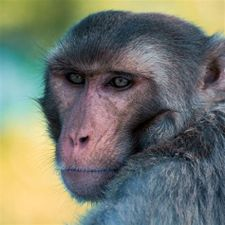monkey: (20, 7, 224, 223)
